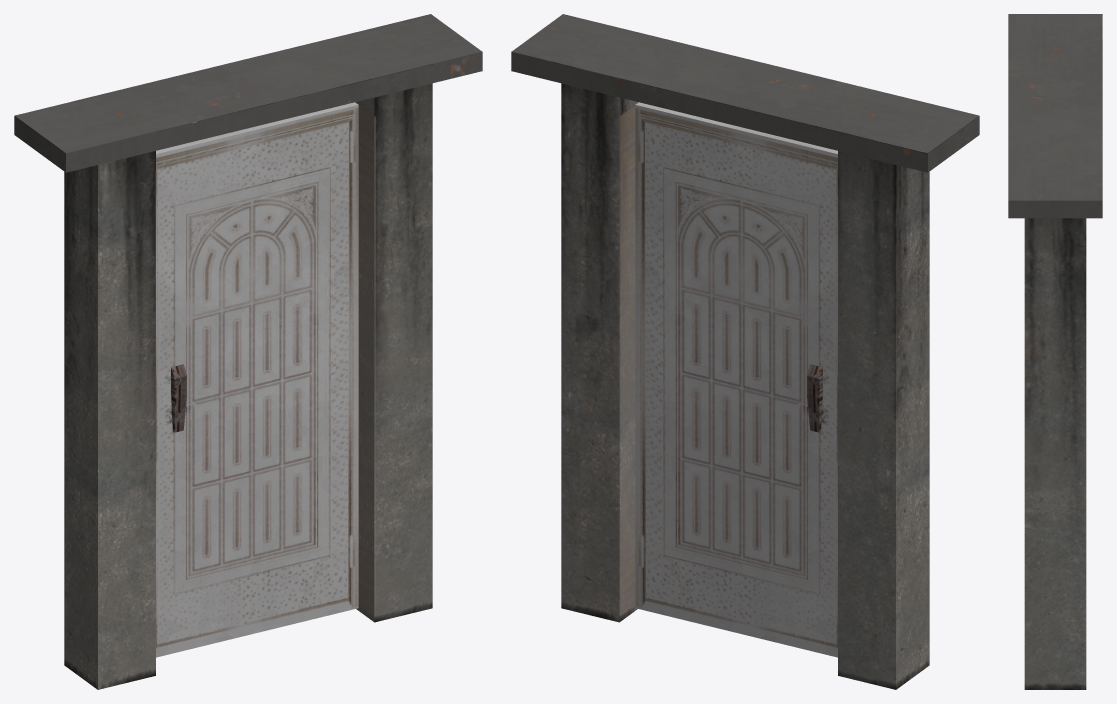
Rendered from outsidedoor_1.fbx.
The picture shows the model from 3 angles, left to right: view 1: azimuth 30°, elevation 25°; view 2: azimuth 150°, elevation 25°; view 3: azimuth 270°, elevation 25°; orthographic projection. The views are drawn at different scales.
Parts seen in each view (by area): view 1: Cube.010; view 2: Cube.010; view 3: Cube.010.
Boxes of the visible parts, x1=… form: Cube.010: x1=14, y1=14, x2=482, y2=689; Cube.010: x1=511, y1=14, x2=979, y2=689; Cube.010: x1=1008, y1=14, x2=1102, y2=689.
Bounding box in the file's own units: 182 × 231 × 38.98.
